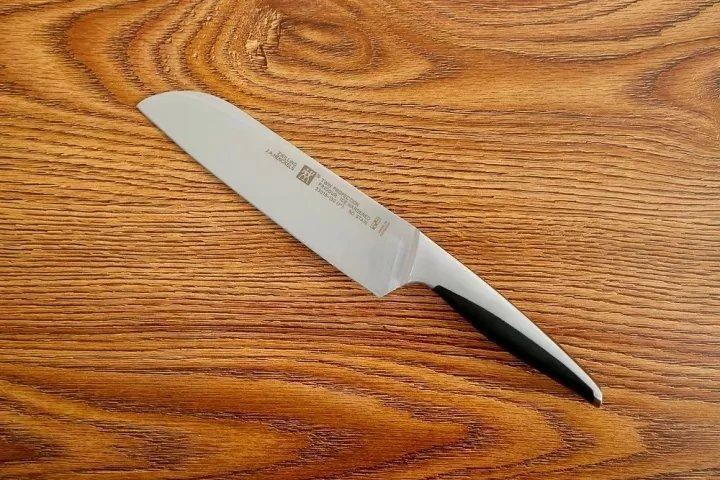knife: (116, 70, 648, 450)
